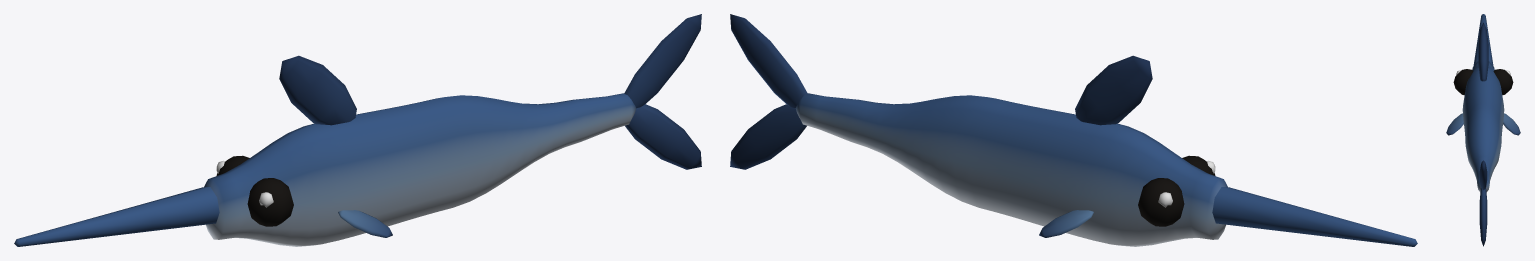
Rendered from Swordfish.glb.
3 views of the same model, side by side, from view 1: azimuth 30°, elevation 25°; view 2: azimuth 150°, elevation 25°; view 3: azimuth 270°, elevation 25° (orthographic). The views are drawn at different scales.
Visible parts, largest first — view 1: Swordfish; view 2: Swordfish; view 3: Swordfish.
Boxes of the visible parts, bbox=[...] form: Swordfish: bbox=[14, 14, 701, 246]; Swordfish: bbox=[730, 14, 1417, 246]; Swordfish: bbox=[1446, 14, 1520, 246].
Size of the model in its own units: 1.6 by 0.4656 by 0.2759.
